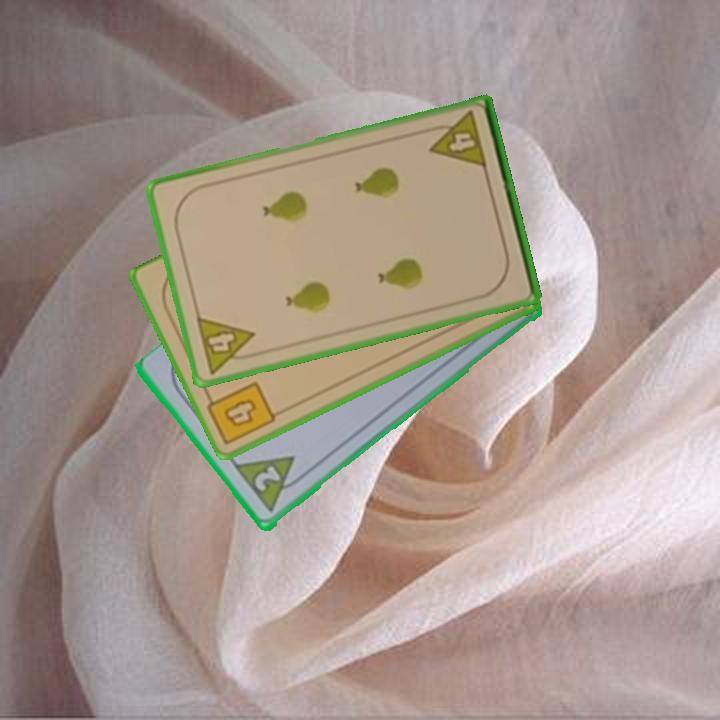2p: (250, 462, 284, 496)
4b: (201, 378, 279, 448)
4p: (192, 313, 262, 377), (422, 108, 490, 172)
